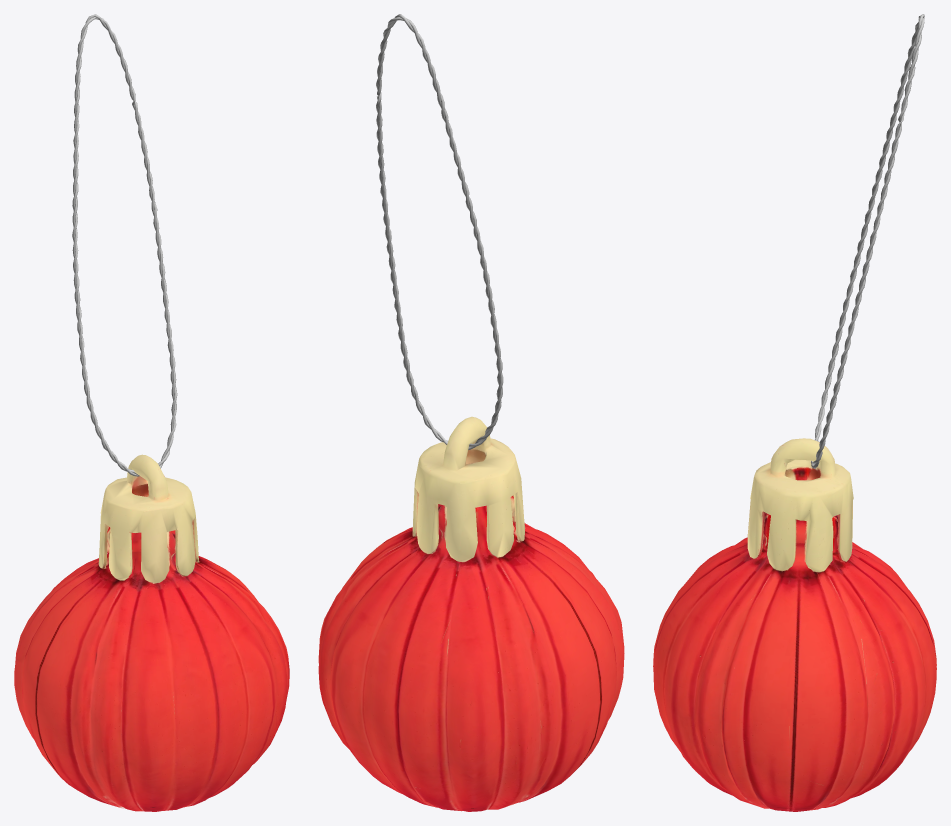
The model's file is Red_Ribbed_Orb.glb.
3 views of the same model, side by side, from view 1: azimuth 30°, elevation 25°; view 2: azimuth 150°, elevation 25°; view 3: azimuth 270°, elevation 25° (orthographic). The views are drawn at different scales.
Parts seen in each view (by area): view 1: Mesh1.0, GN Instance; view 2: Mesh1.0, GN Instance; view 3: Mesh1.0, GN Instance.
Boxes of the visible parts, x1,y1,x2,y2 form: Mesh1.0: (14,454,289,811); GN Instance: (72,14,177,476); Mesh1.0: (318,416,624,811); GN Instance: (376,14,503,449); Mesh1.0: (653,438,936,811); GN Instance: (811,14,924,468).
Bounding box in the file's own units: 0.0283 × 0.0869 × 0.0284.
2 materials, 1 textured.
